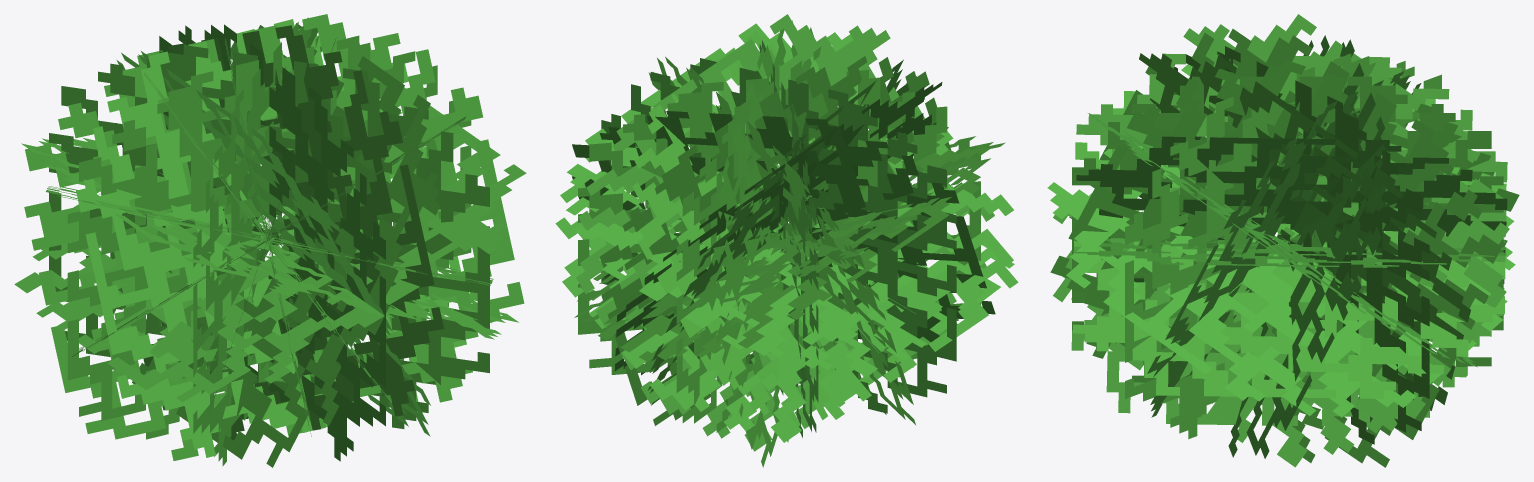
File: bush.fbx
3 renders of one model, left to right at view 1: azimuth 30°, elevation 25°; view 2: azimuth 150°, elevation 25°; view 3: azimuth 270°, elevation 25°, orthographic. The views are drawn at different scales.
Visible parts, largest first — view 1: Plane.001; view 2: Plane.001; view 3: Plane.001.
Part boxes in pixels (bbox=[...]): Plane.001: bbox=[14, 14, 526, 467]; Plane.001: bbox=[555, 14, 1018, 467]; Plane.001: bbox=[1047, 14, 1519, 467].
Size of the model in its own units: 261 by 246 by 263.
